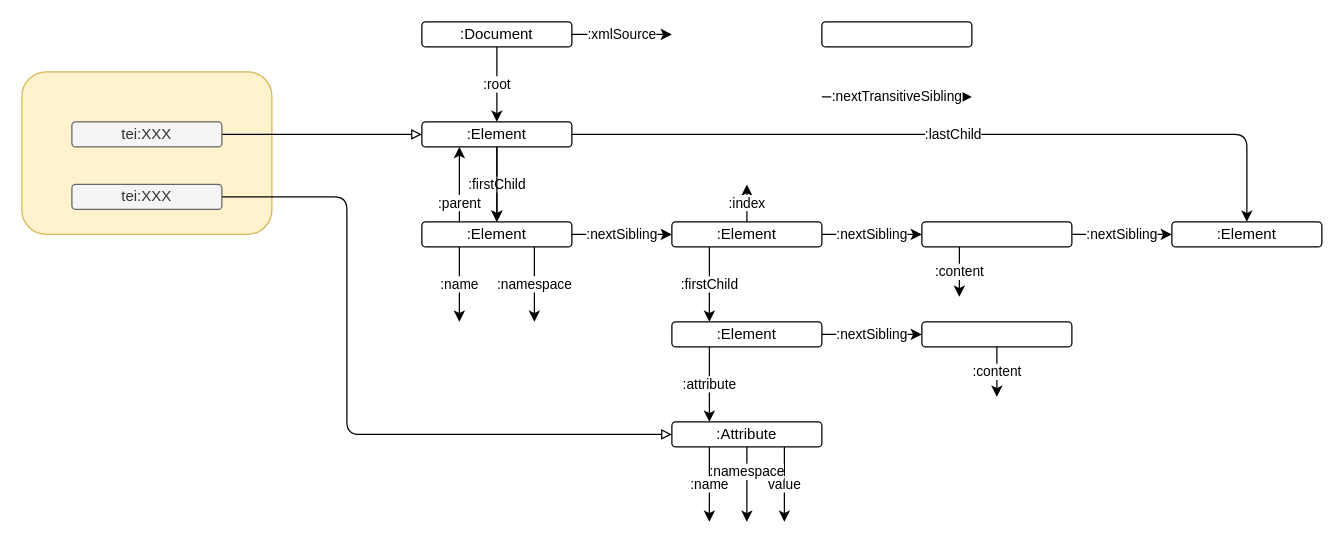
Image size: 1344x554. Some labels were removed from this diagram. Here are the shapes that lost their labels. From the top down, the box of each, then its label:
(821, 21, 972, 47): :Node
(21, 71, 272, 234): Generated Classes and Attributes
(921, 221, 1072, 247): :Text
(921, 321, 1072, 347): :Comment
